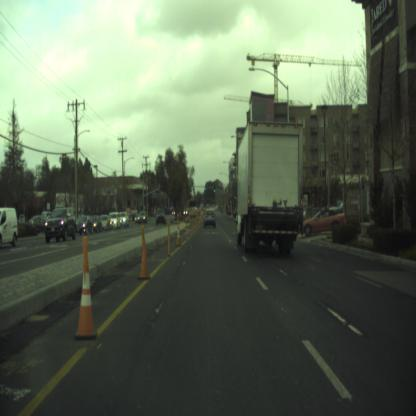Green: (204, 184, 206, 189), (214, 186, 215, 192), (236, 199, 237, 205), (230, 197, 231, 202)
Red: (193, 186, 194, 190)
